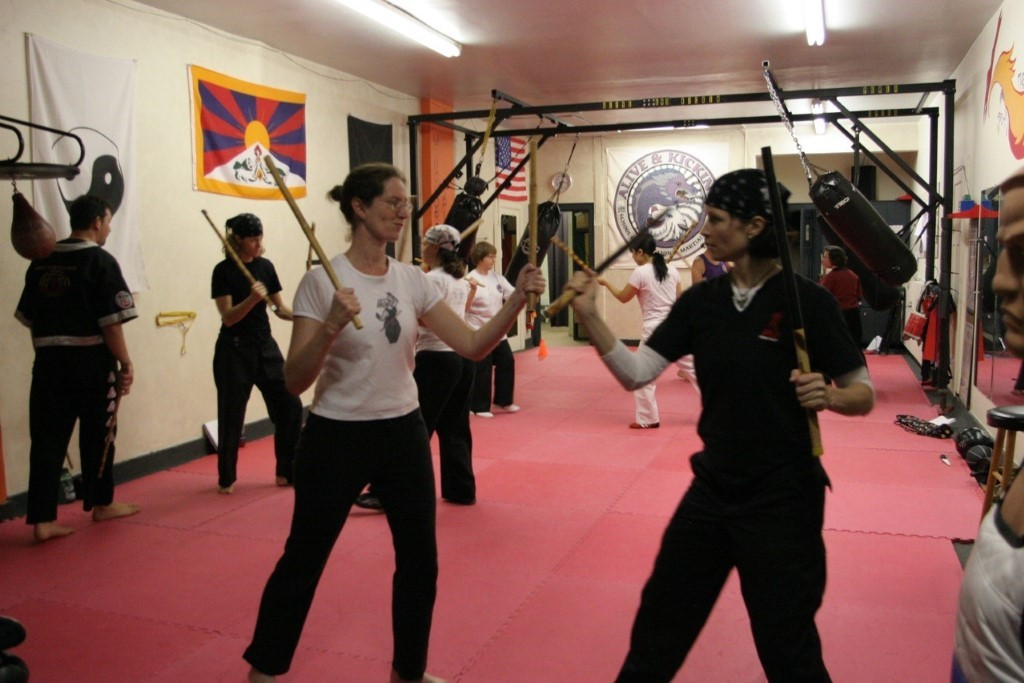baston_e: (761, 154, 822, 448), (264, 163, 360, 322), (548, 213, 657, 314), (202, 213, 270, 300), (98, 368, 127, 475), (421, 220, 477, 267), (549, 236, 596, 275), (527, 145, 538, 308), (666, 222, 696, 261)
baston_v: (523, 299, 539, 316), (757, 141, 773, 157), (542, 306, 556, 321), (810, 445, 824, 458), (353, 320, 366, 332), (263, 295, 274, 306), (262, 152, 273, 163), (528, 138, 540, 147), (198, 205, 208, 215), (476, 216, 487, 224), (95, 473, 104, 482), (664, 205, 671, 214), (692, 218, 699, 226)
